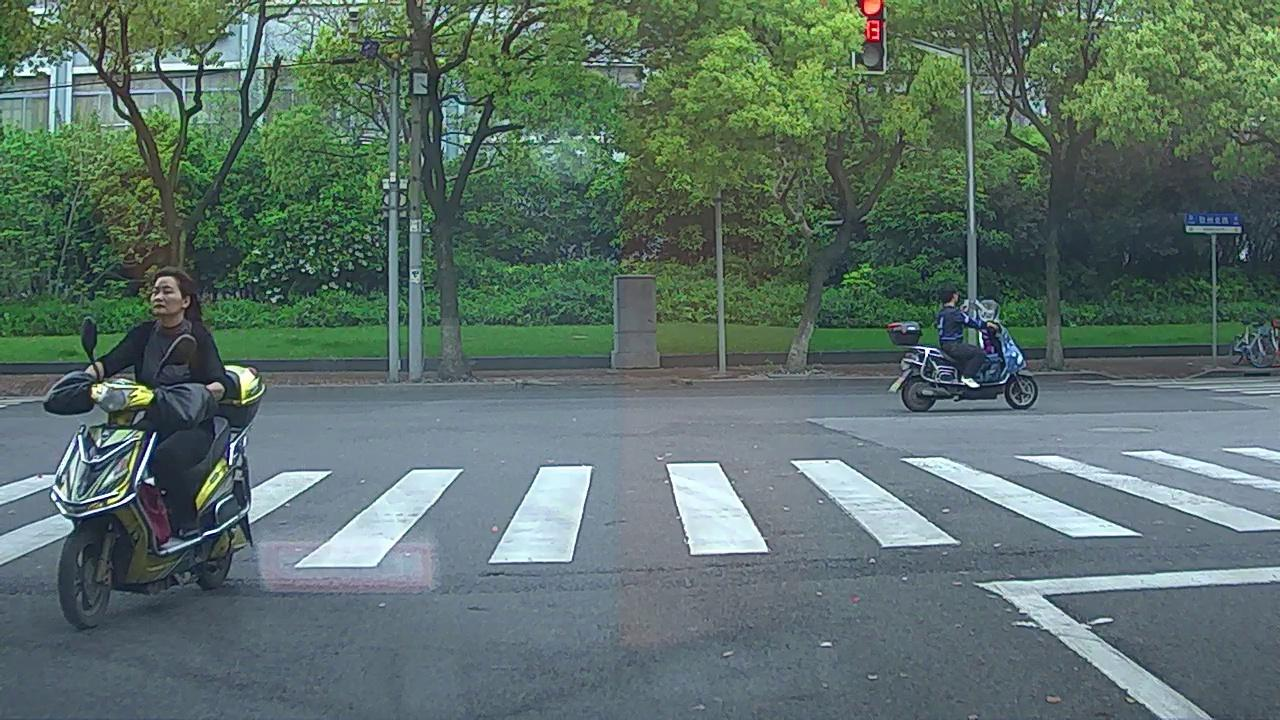traffic_light: (857, 1, 885, 69)
